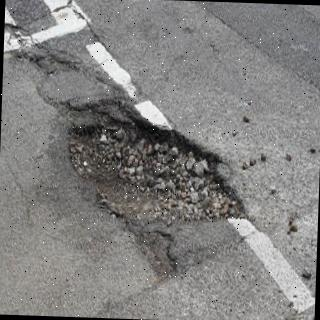pothole: (68, 101, 247, 274)
